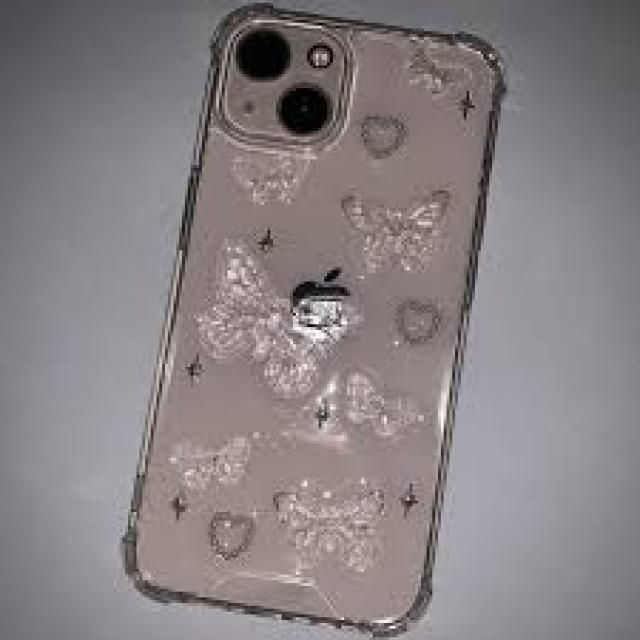Phone: (124, 0, 510, 639)
